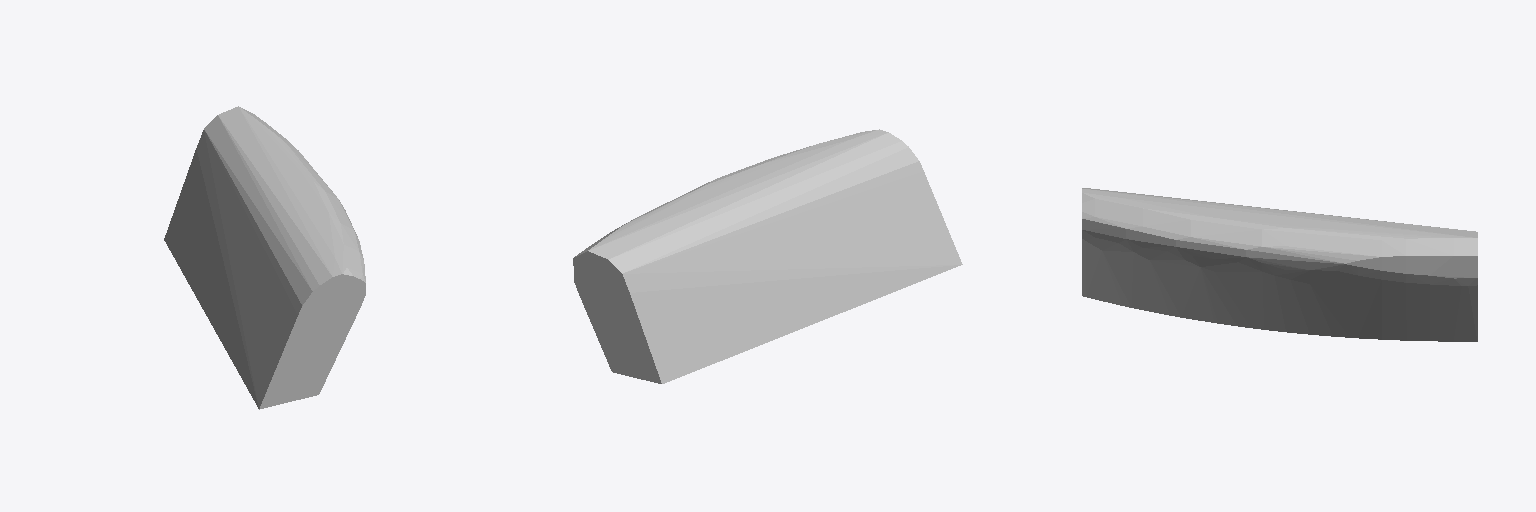
The model's file is skillet_collision_12.obj.
3 renders of one model, left to right at view 1: azimuth 30°, elevation 25°; view 2: azimuth 150°, elevation 25°; view 3: azimuth 270°, elevation 25°, orthographic.
Size of the model in its own units: 0.0299 by 0.0172 by 0.0535.